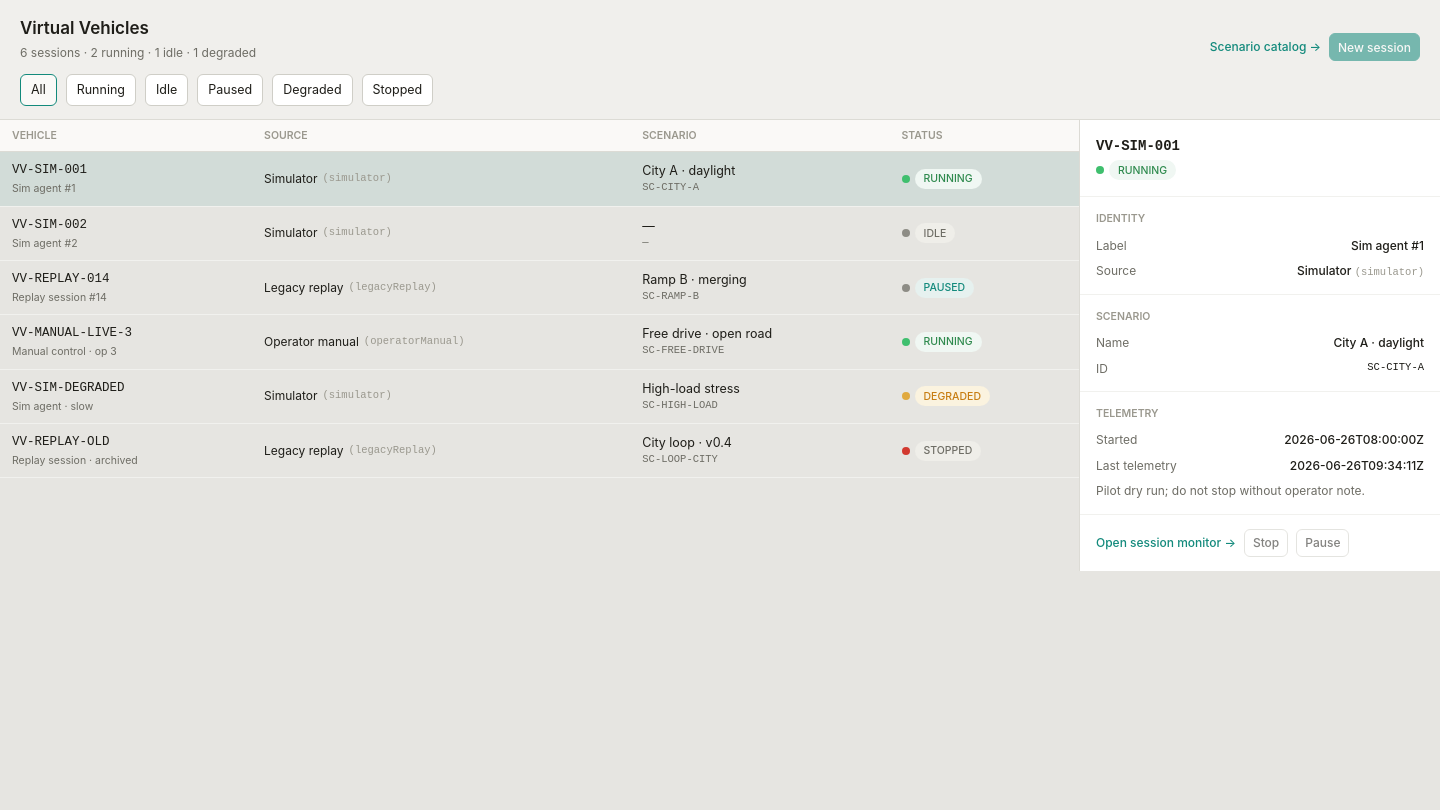
Test: VirtualVehiclesScreen › clicking a row switches the detail aside
Expected: the button "VV-SIM-001 Sim agent #1" is shown, [12,161,240,197]
Click the button "VV-REPLAY-014 Replay session #14": (126,288) [12,270,240,305]
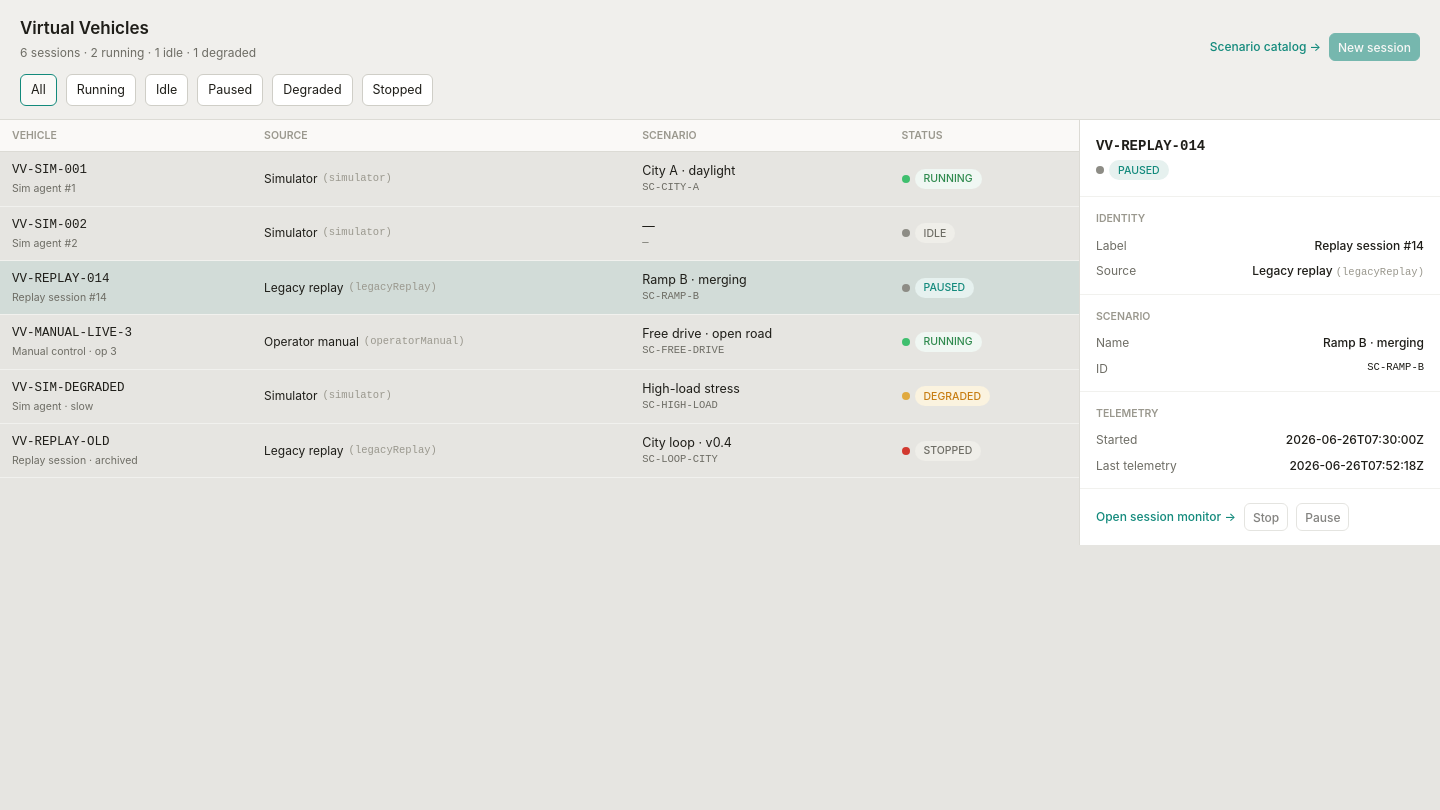
Expected: the element named "Virtual vehicle VV-REPLAY-014" is shown, [1080,120,1439,545]
